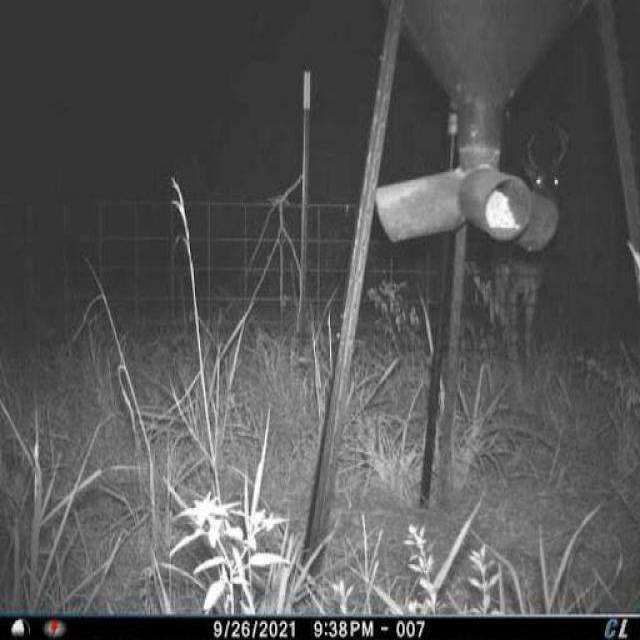deer: (482, 105, 572, 376)
